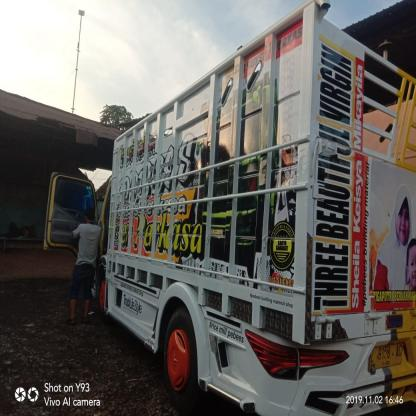truck: (44, 3, 416, 416)
